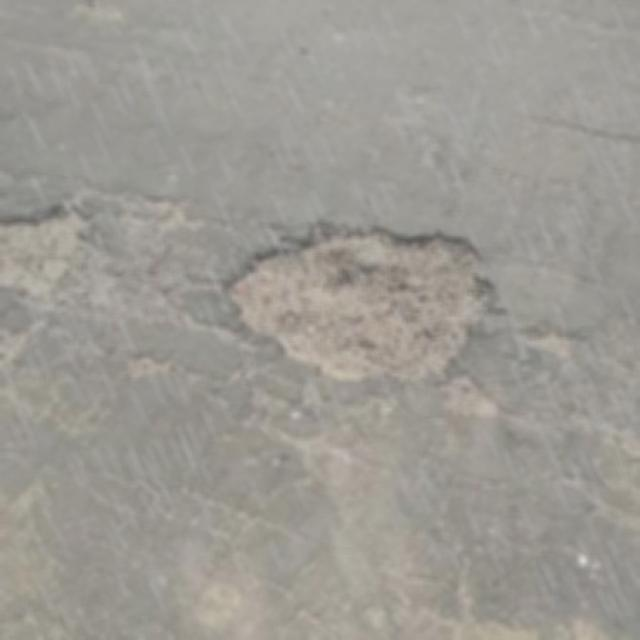road-pothole: (214, 217, 497, 384)
